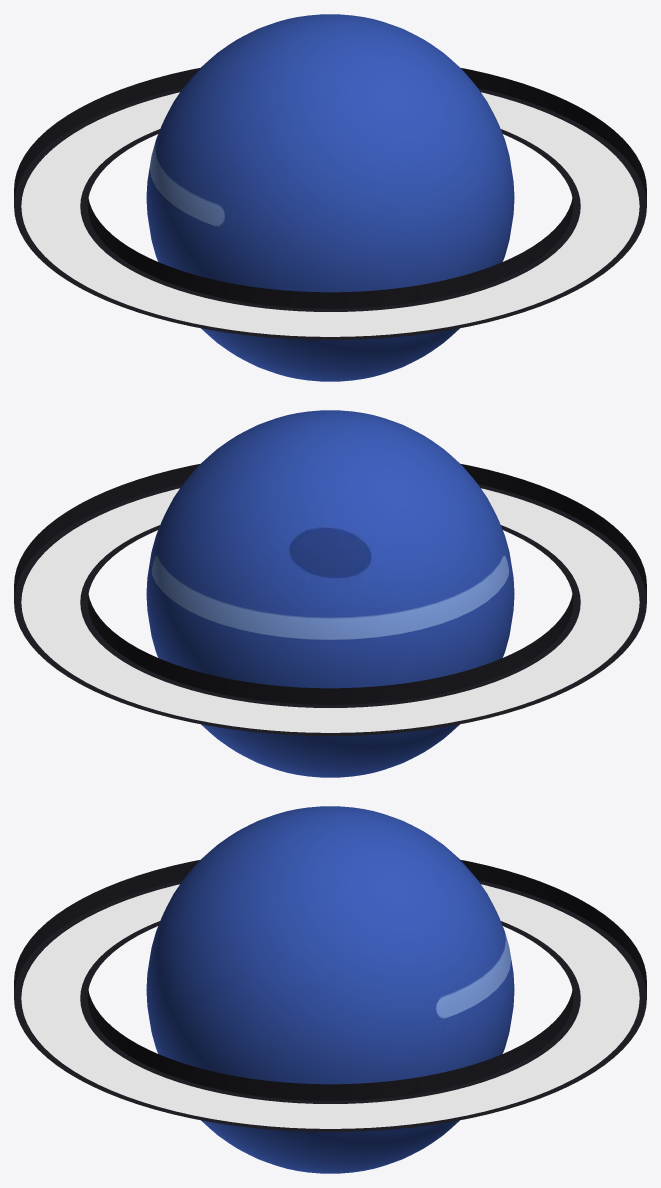
The model's file is ball_neptune.glb.
3 renders of one model, top to bottom at view 1: azimuth 30°, elevation 25°; view 2: azimuth 150°, elevation 25°; view 3: azimuth 270°, elevation 25°, orthographic.
Parts seen in each view (by area): view 1: ball_neptune, ring; view 2: ball_neptune, ring; view 3: ball_neptune, ring.
Part boxes in pixels (bbox=[...]): ball_neptune: bbox=[146, 14, 514, 381]; ring: bbox=[14, 68, 646, 339]; ball_neptune: bbox=[146, 410, 514, 777]; ring: bbox=[14, 464, 646, 735]; ball_neptune: bbox=[146, 806, 514, 1173]; ring: bbox=[14, 860, 646, 1131].
Size of the model in its own units: 1.72 by 1 by 1.72.
Materials: 2 (1 with a texture image).
